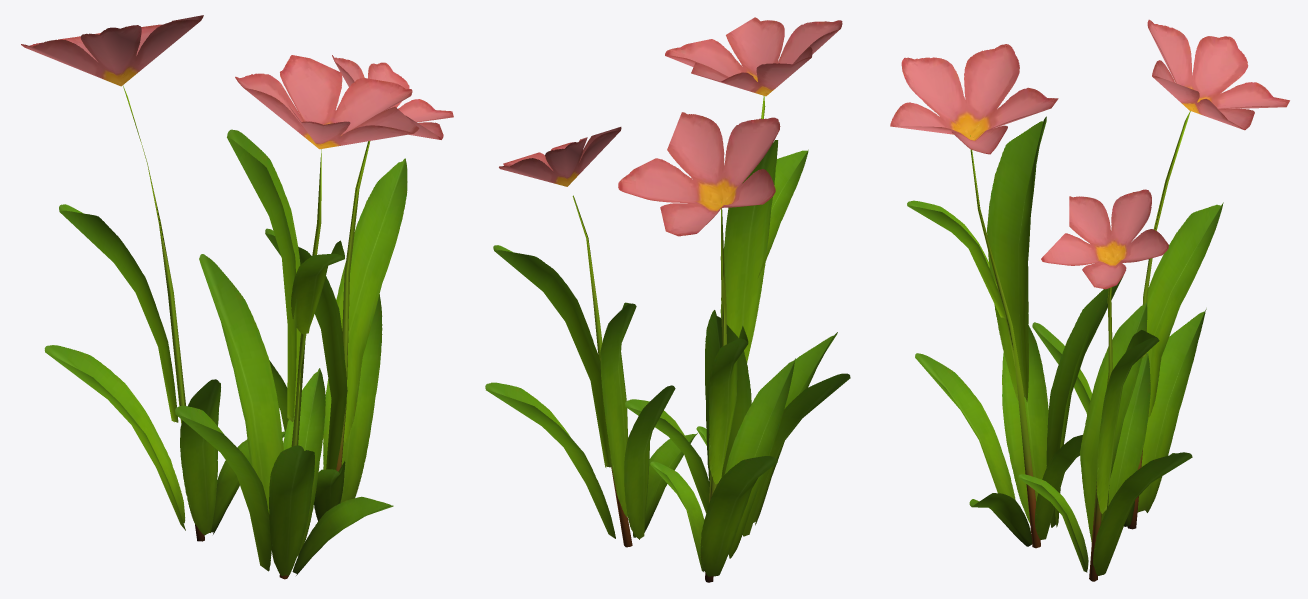
Rendered from n_flower_3_group.glb.
3 renders of one model, left to right at view 1: azimuth 30°, elevation 25°; view 2: azimuth 150°, elevation 25°; view 3: azimuth 270°, elevation 25°, orthographic. The views are drawn at different scales.
Parts seen in each view (by area): view 1: Flower_3_Group; view 2: Flower_3_Group; view 3: Flower_3_Group.
Boxes of the visible parts, x1,y1,x2,y2 form: Flower_3_Group: (21, 15, 453, 579); Flower_3_Group: (485, 17, 850, 582); Flower_3_Group: (890, 19, 1289, 581).
Size of the model in its own units: 1.49 by 2.05 by 1.59.
2 materials, 2 textured.
